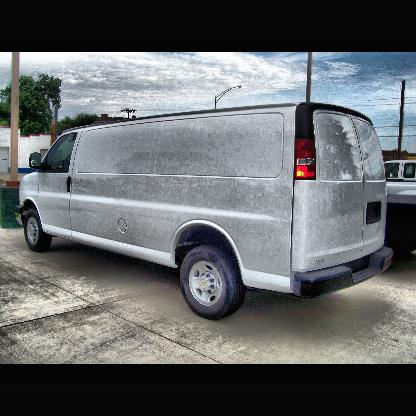Chevrolet Express Cargo Van 2007: (20, 106, 386, 319)
